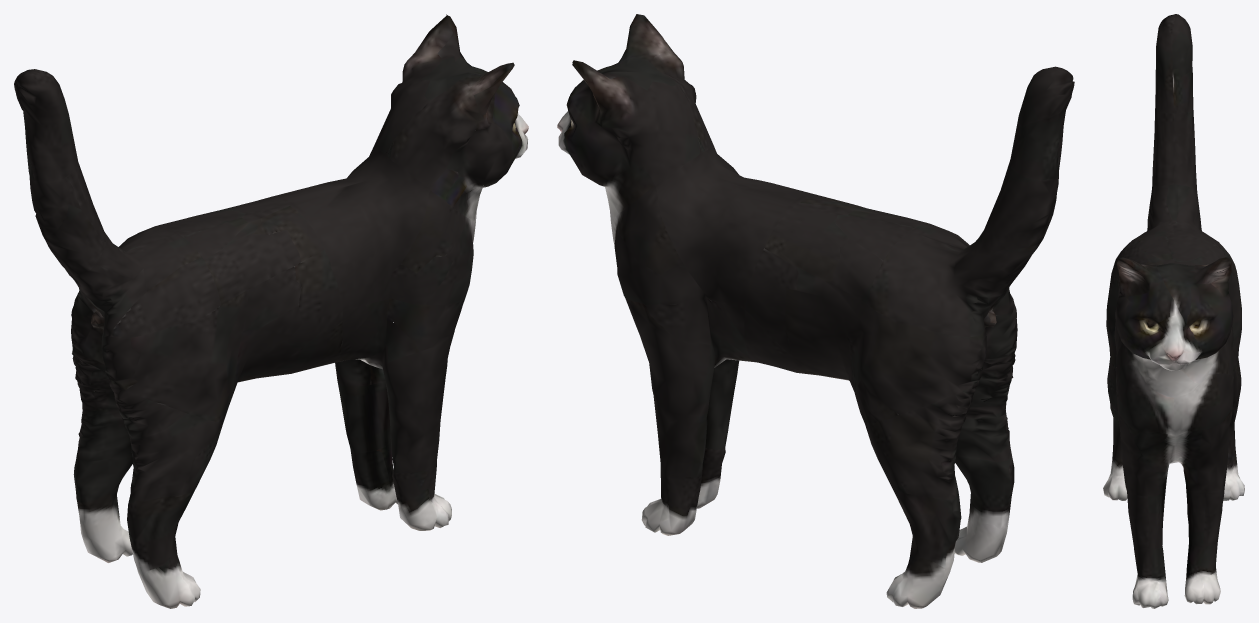
The model's file is GUPPYCAT-lo.glb.
3 renders of one model, left to right at view 1: azimuth 30°, elevation 25°; view 2: azimuth 150°, elevation 25°; view 3: azimuth 270°, elevation 25°, orthographic. The views are drawn at different scales.
Parts seen in each view (by area): view 1: tripo_node_c96a7cd2-f892-4710-9491-c2c31c7533e2; view 2: tripo_node_c96a7cd2-f892-4710-9491-c2c31c7533e2; view 3: tripo_node_c96a7cd2-f892-4710-9491-c2c31c7533e2.
Part boxes in pixels (<box>): tripo_node_c96a7cd2-f892-4710-9491-c2c31c7533e2: <box>14,14,528,608</box>; tripo_node_c96a7cd2-f892-4710-9491-c2c31c7533e2: <box>557,14,1074,608</box>; tripo_node_c96a7cd2-f892-4710-9491-c2c31c7533e2: <box>1103,14,1244,608</box>.
Bounding box in the file's own units: 0.9987 × 0.9993 × 0.2956.
Materials: 1 (1 with a texture image).
